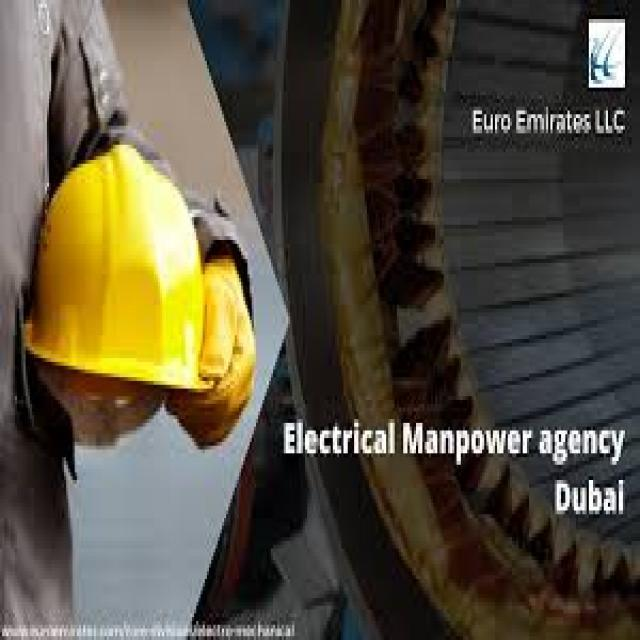safety_helmet: (6, 133, 221, 415)
